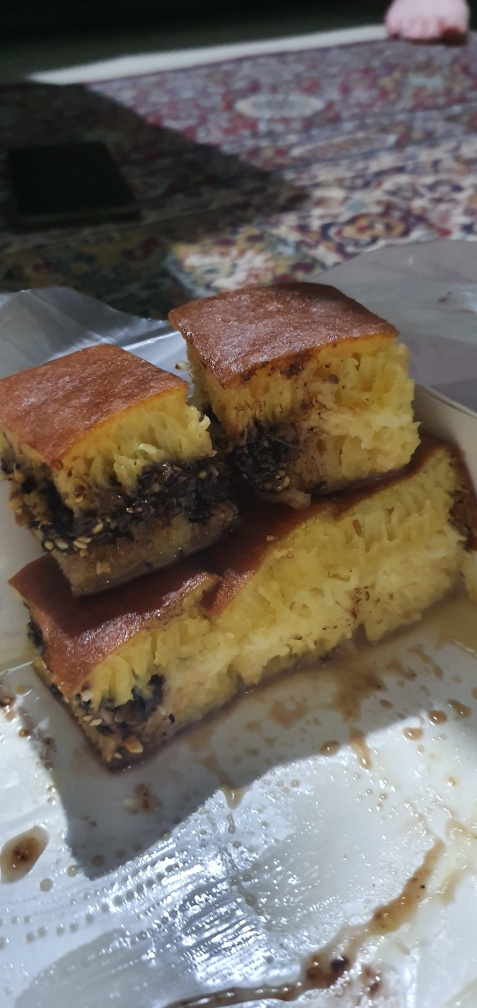martabak manis: (1, 343, 235, 556), (186, 272, 420, 478), (7, 551, 227, 755), (206, 502, 371, 680), (363, 457, 477, 667)
